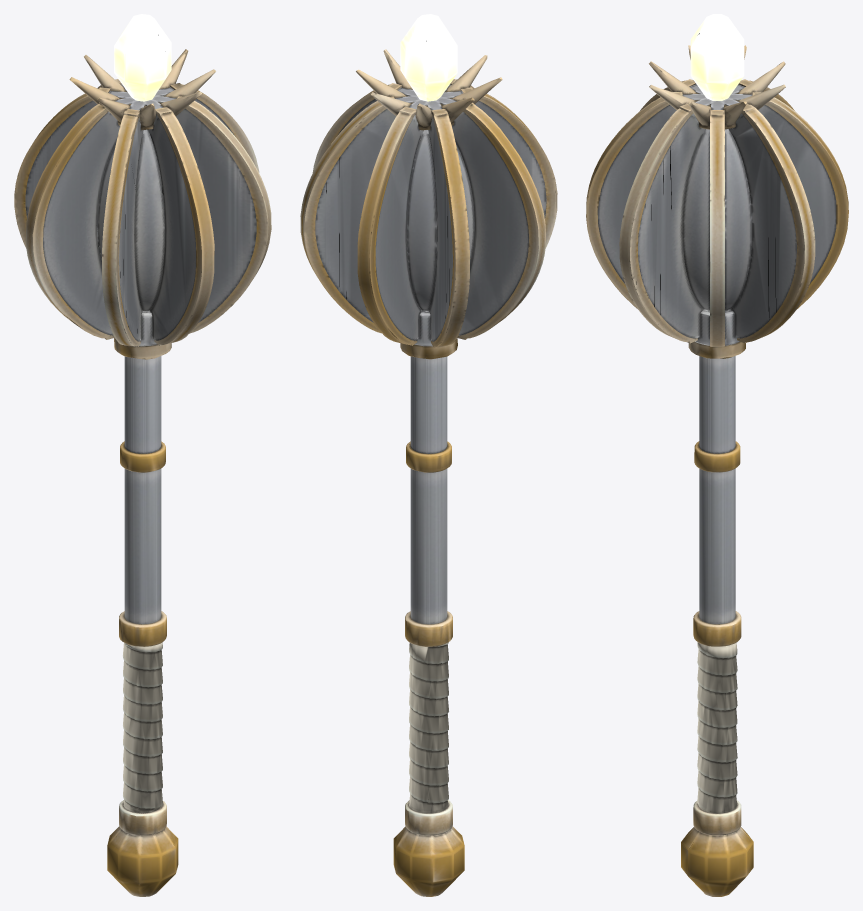
Rendered from weapon_mace.gltf.
3 views of the same model, side by side, from view 1: azimuth 30°, elevation 25°; view 2: azimuth 150°, elevation 25°; view 3: azimuth 270°, elevation 25° (orthographic).
Visible parts, largest first — view 1: weapon_mace; view 2: weapon_mace; view 3: weapon_mace.
Boxes of the visible parts, <box> form: weapon_mace: <box>14,14,271,896</box>; weapon_mace: <box>300,14,557,896</box>; weapon_mace: <box>586,14,848,896</box>.
Bounding box in the file's own units: 0.2737 × 1 × 0.274.
Materials: 1 (1 with a texture image).
